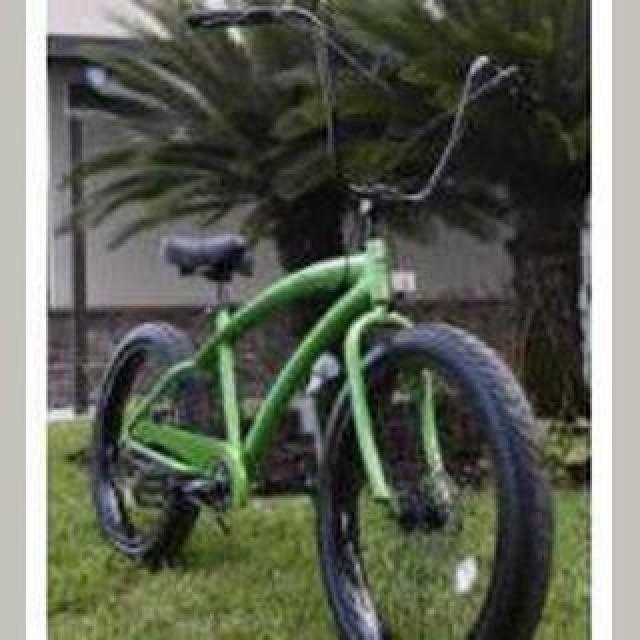Person: (84, 36, 556, 640)
